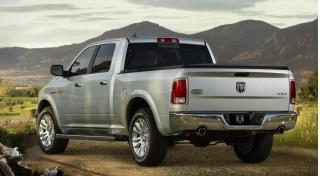ram: (234, 80, 248, 96)
